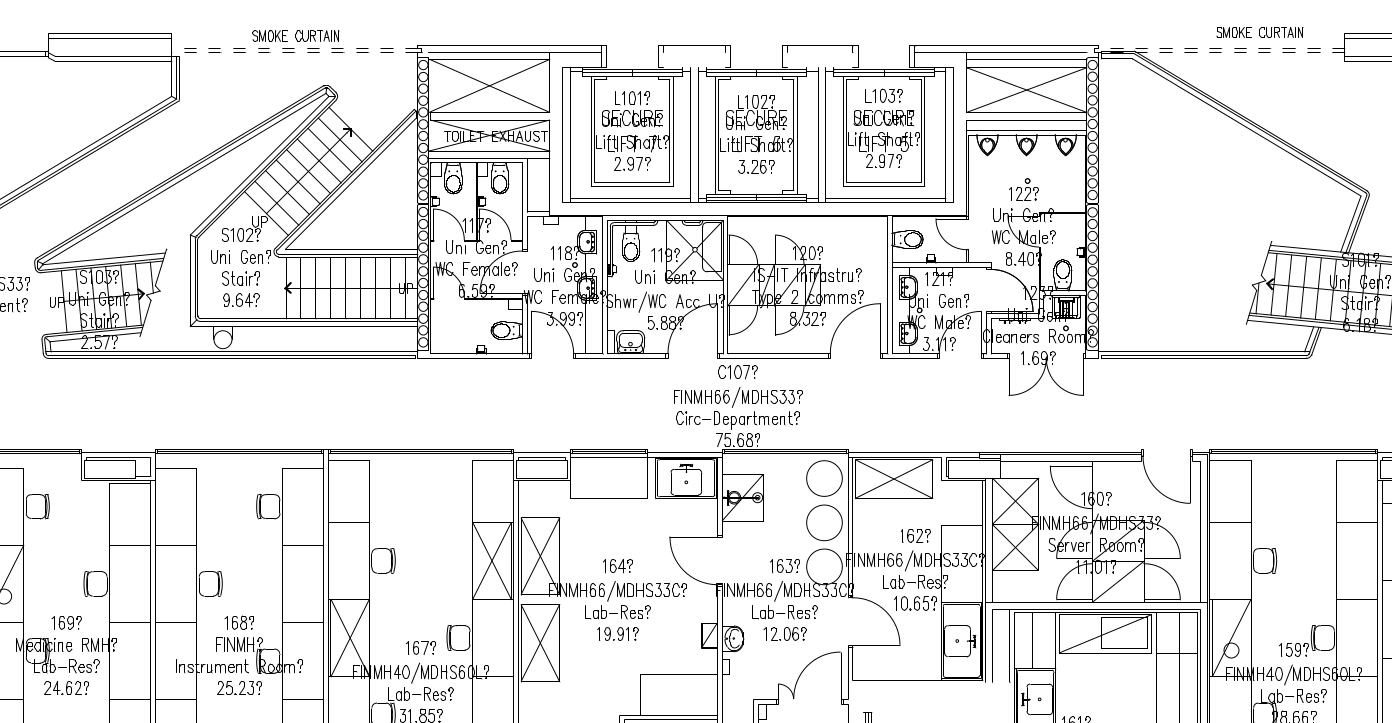door: (659, 297, 720, 364), (823, 296, 884, 363), (1138, 443, 1195, 511), (662, 527, 723, 587), (845, 591, 906, 651), (528, 305, 579, 367), (793, 645, 843, 703), (934, 303, 985, 357), (1004, 348, 1048, 402), (1045, 349, 1089, 403), (1048, 464, 1093, 511), (1052, 516, 1097, 563), (1052, 554, 1097, 601), (1145, 513, 1190, 560), (1144, 554, 1189, 601), (431, 202, 471, 248), (477, 200, 517, 246), (431, 256, 471, 302), (929, 217, 966, 256), (771, 677, 795, 708)
